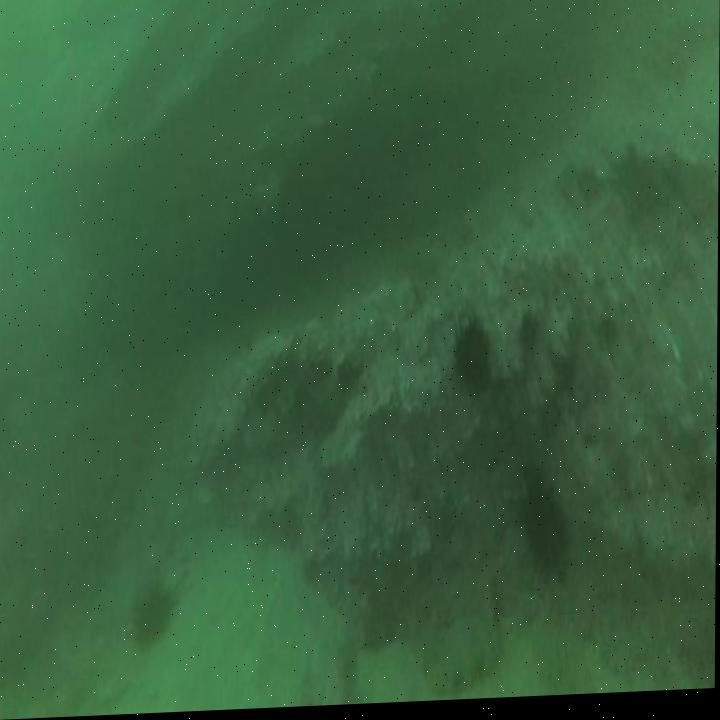echinus: (525, 478, 566, 576), (456, 330, 490, 398), (133, 588, 172, 647)
